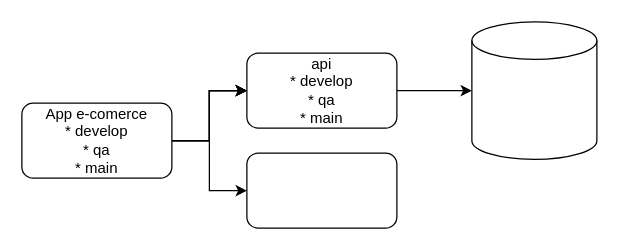
The diagram is 619 pixels wide and 250 high, and some of its shapes have lost their labels. The shapes that lost their labels are listed below. From the top down, each one's centre as x and y in pixels, then its label:
the point at 534,90: BD * develop * qa * main
the point at 321,190: front * develop * qa * main
